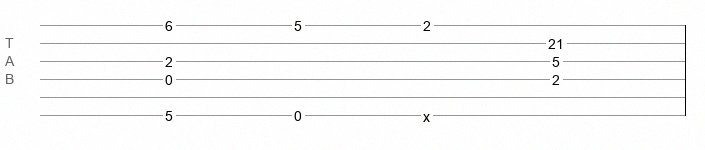0: (165, 72, 173, 82), (294, 108, 302, 118)
2: (165, 54, 173, 64), (423, 18, 431, 28), (552, 72, 560, 82)
21: (548, 36, 564, 46)
5: (165, 108, 173, 118), (294, 18, 302, 28), (552, 54, 560, 64)
6: (165, 18, 173, 28)
x: (423, 109, 430, 117)
